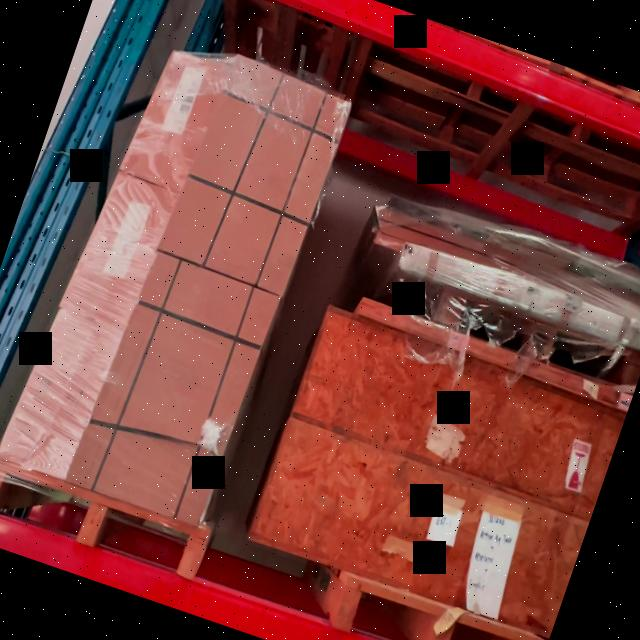box: (79, 259, 274, 526), (168, 58, 351, 294), (4, 306, 116, 478), (70, 175, 170, 326), (129, 51, 223, 191)
